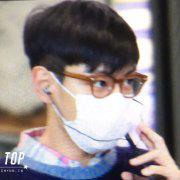OK: (47, 61, 141, 155)
